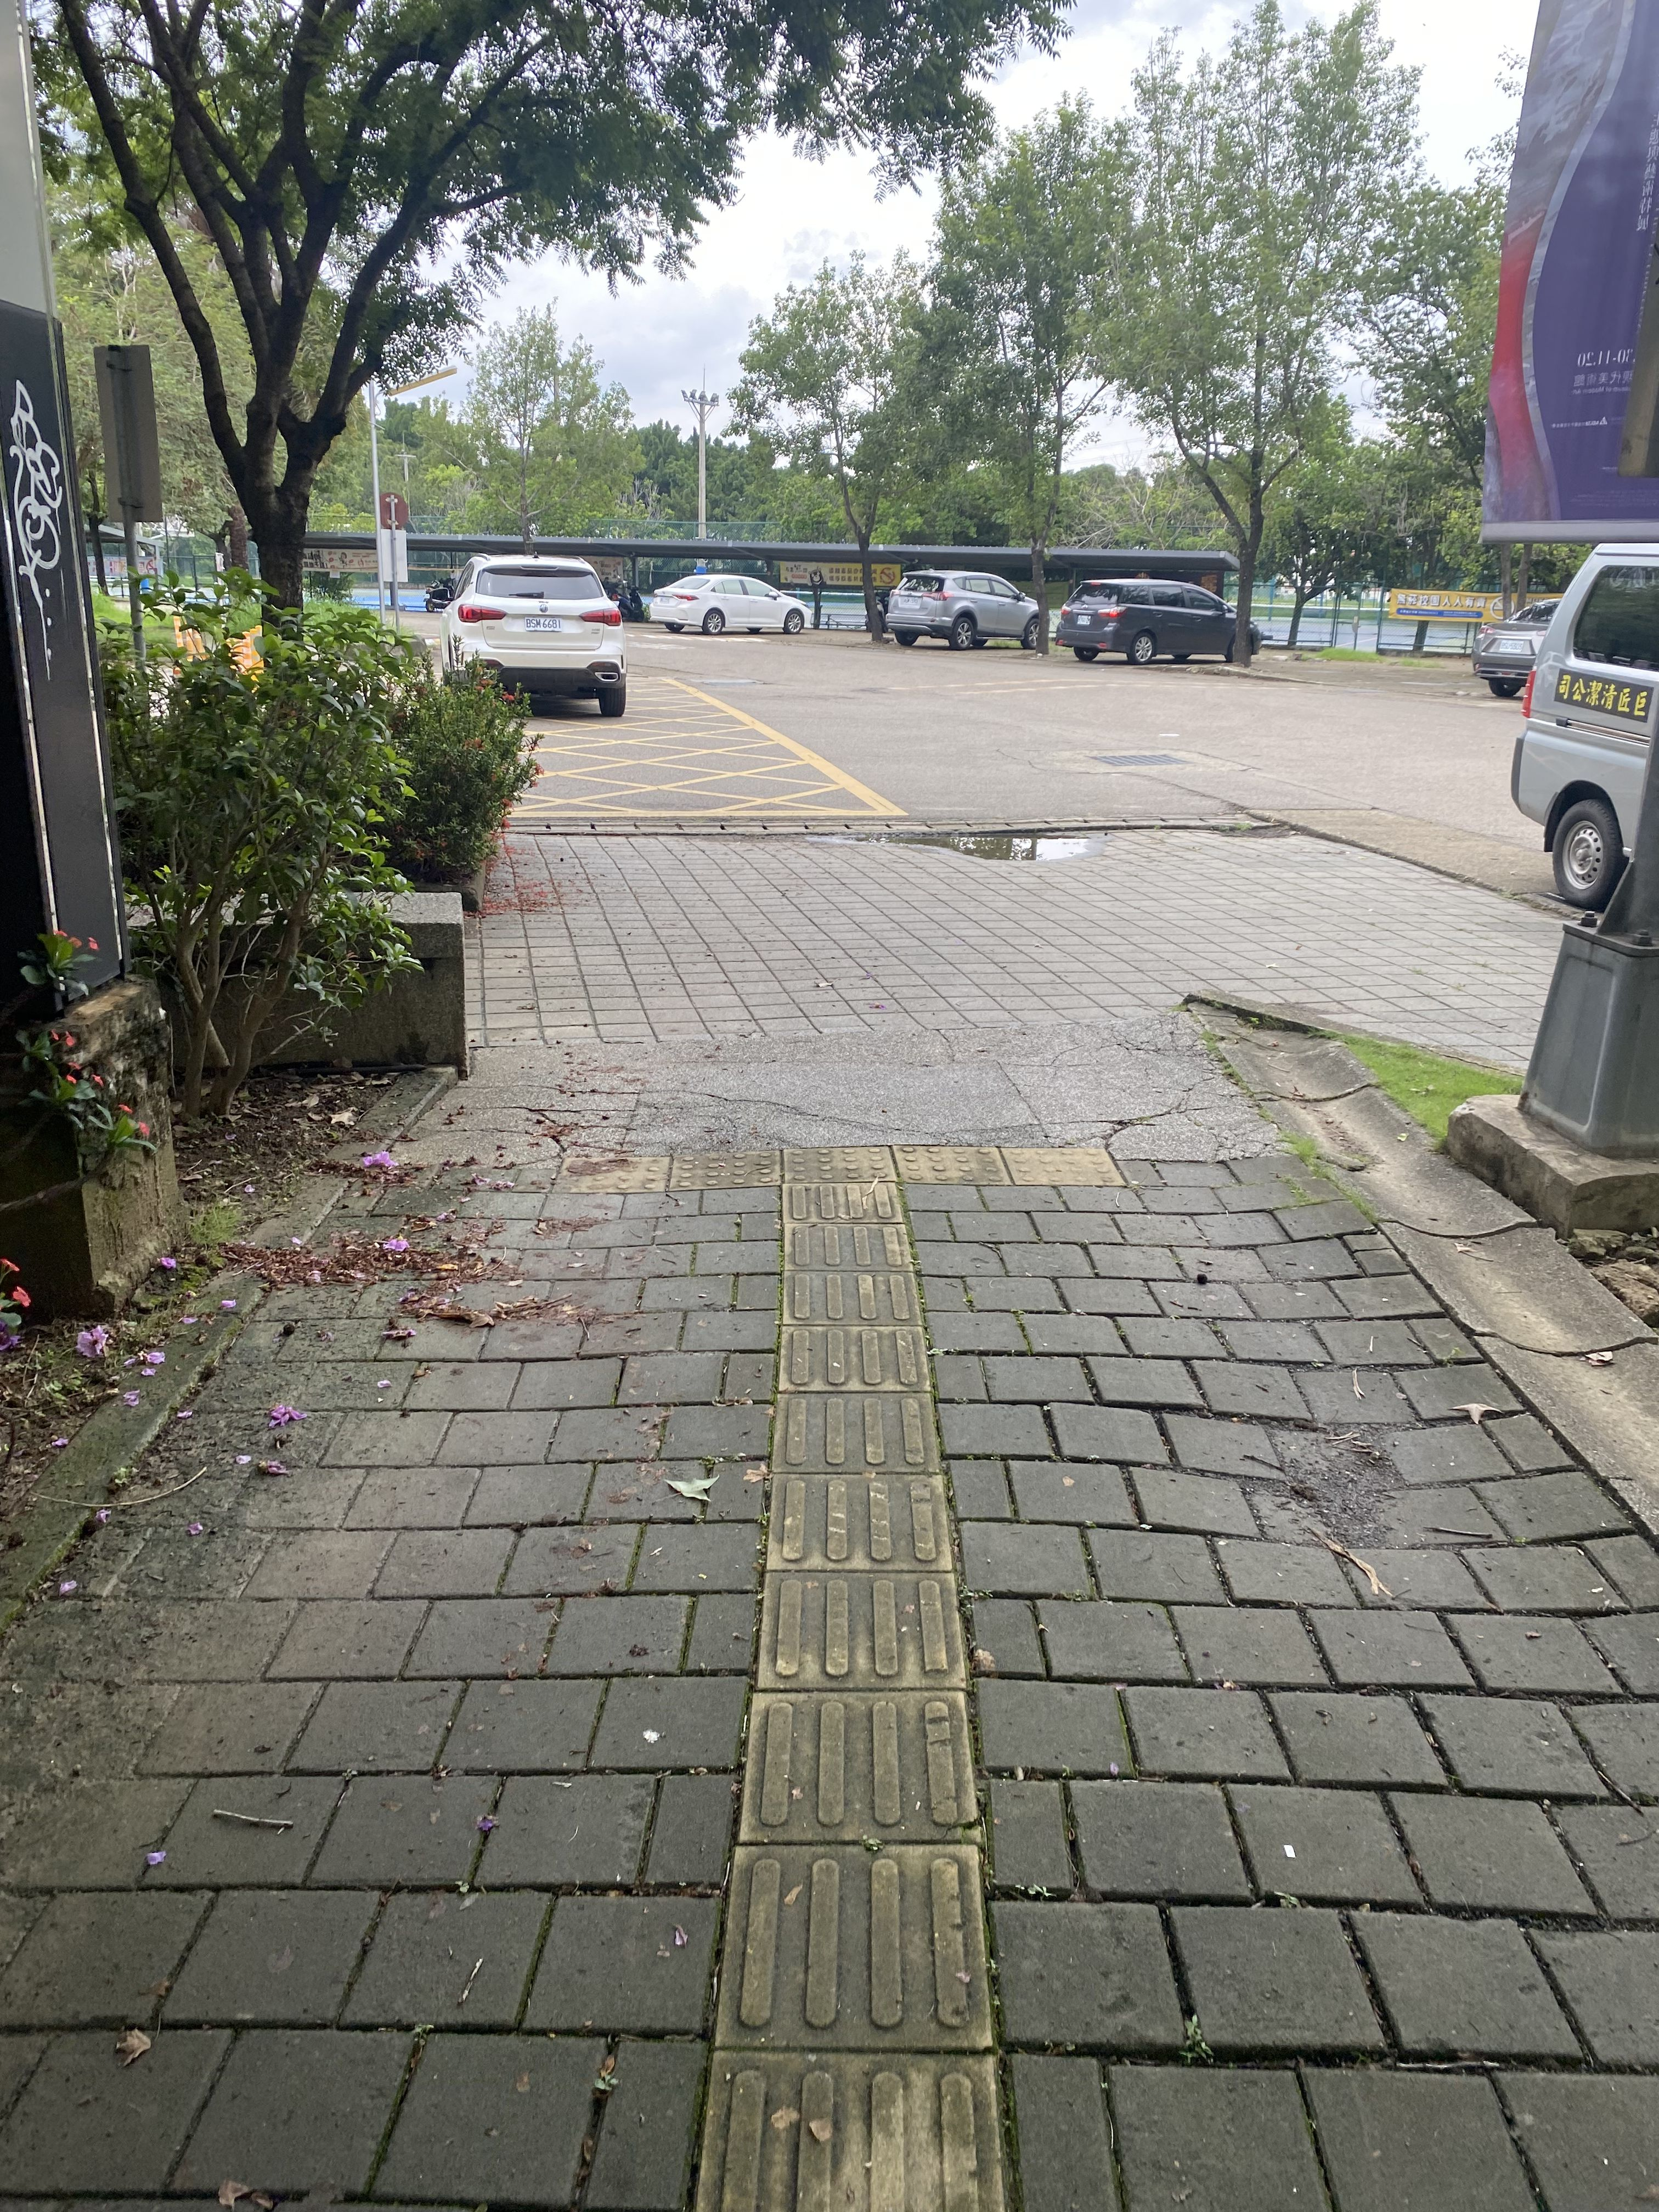sidewalk: (0, 751, 1659, 2212)
